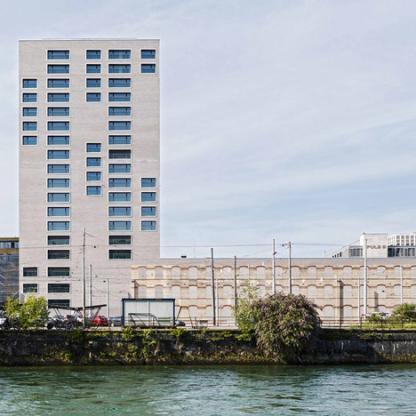Building Outline: (18, 36, 416, 329)
Facade: (18, 37, 160, 327)
Window: (109, 250, 131, 259), (109, 236, 131, 245), (48, 300, 69, 309), (48, 268, 69, 277), (48, 285, 69, 294), (48, 251, 69, 260), (48, 151, 69, 160), (48, 166, 69, 175), (48, 180, 69, 189), (48, 136, 69, 145), (48, 108, 69, 117), (48, 122, 69, 131), (48, 94, 69, 103), (48, 65, 69, 74), (48, 79, 69, 88), (48, 237, 69, 246), (48, 208, 69, 217), (48, 222, 69, 231), (48, 194, 69, 203), (48, 51, 69, 60), (109, 222, 131, 230), (109, 207, 131, 215), (109, 193, 131, 201), (109, 179, 131, 187), (109, 165, 131, 173), (109, 65, 131, 73), (109, 51, 131, 59), (109, 150, 131, 158), (109, 136, 131, 144), (109, 122, 131, 130), (109, 108, 131, 116), (109, 94, 131, 102), (109, 79, 131, 87), (87, 186, 101, 195), (87, 93, 101, 102), (87, 78, 101, 87), (87, 64, 101, 73), (23, 284, 37, 293), (87, 143, 101, 152), (87, 158, 101, 167), (87, 172, 101, 181), (23, 108, 37, 117), (23, 94, 37, 103), (23, 79, 37, 88), (23, 122, 37, 131), (87, 50, 101, 59), (142, 193, 156, 202), (142, 179, 156, 188), (142, 64, 156, 73), (142, 50, 156, 59), (142, 222, 156, 231), (142, 207, 156, 216), (23, 136, 37, 145), (23, 268, 37, 277)
